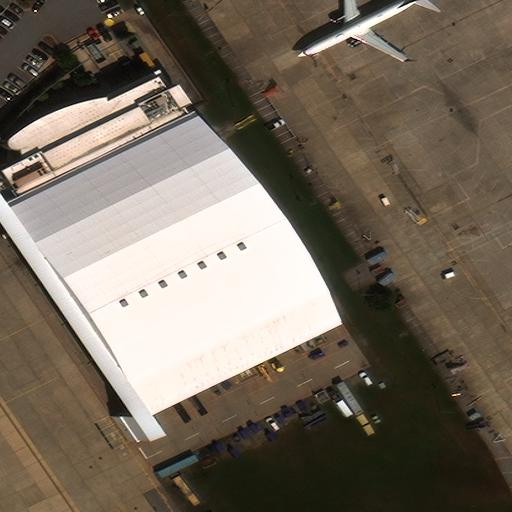Medium Civil Transport: (296, 0, 433, 62)
